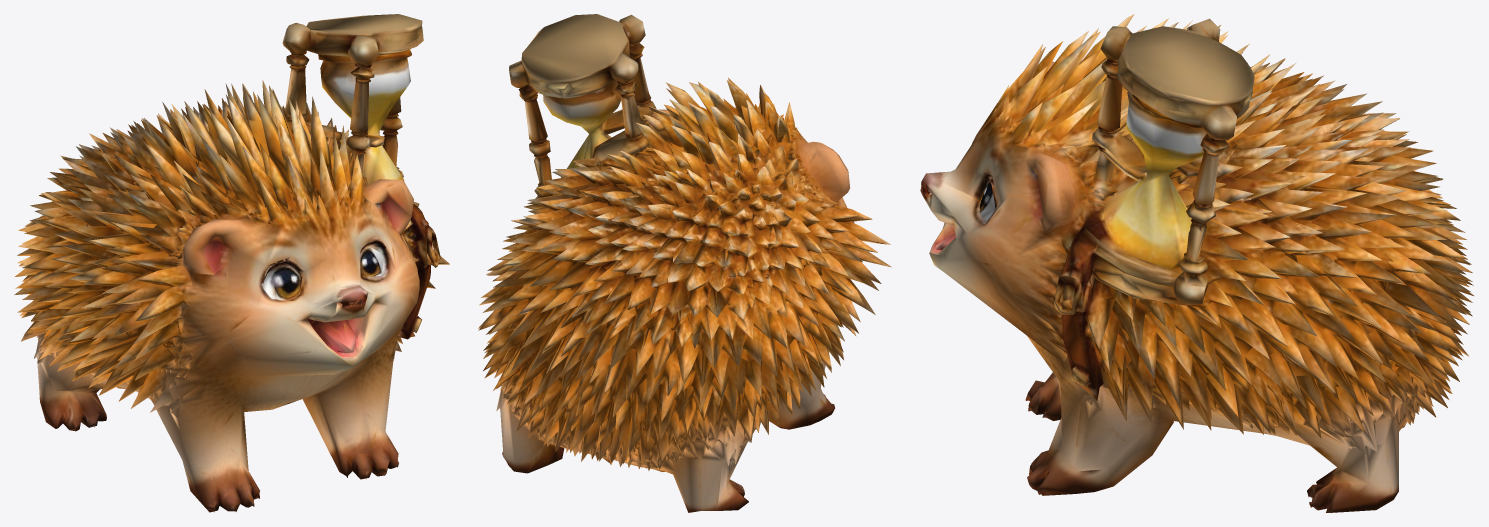
The model's file is sandhog.glb.
3 views of the same model, side by side, from view 1: azimuth 30°, elevation 25°; view 2: azimuth 150°, elevation 25°; view 3: azimuth 270°, elevation 25° (orthographic). The views are drawn at different scales.
Parts seen in each view (by area): view 1: node_0; view 2: node_0; view 3: node_0.
Boxes of the visible parts, x1=… form: node_0: x1=14, y1=14, x2=449, y2=512; node_0: x1=478, y1=14, x2=891, y2=512; node_0: x1=920, y1=14, x2=1473, y2=512.
Size of the model in its own units: 0.9037 by 1 by 1.07.
Materials: 1 (1 with a texture image).
